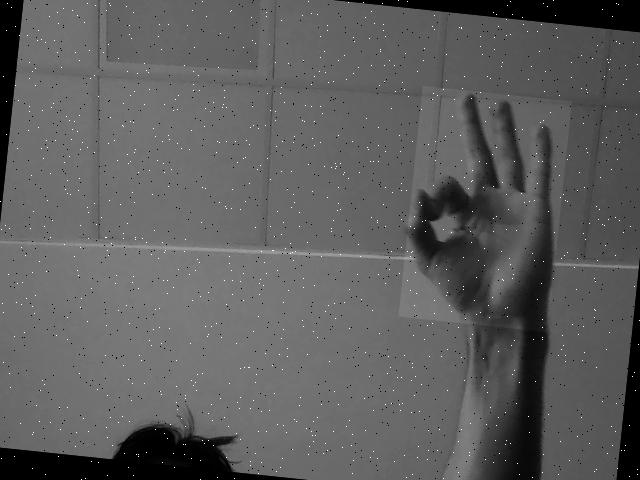OK: (408, 92, 556, 332)
